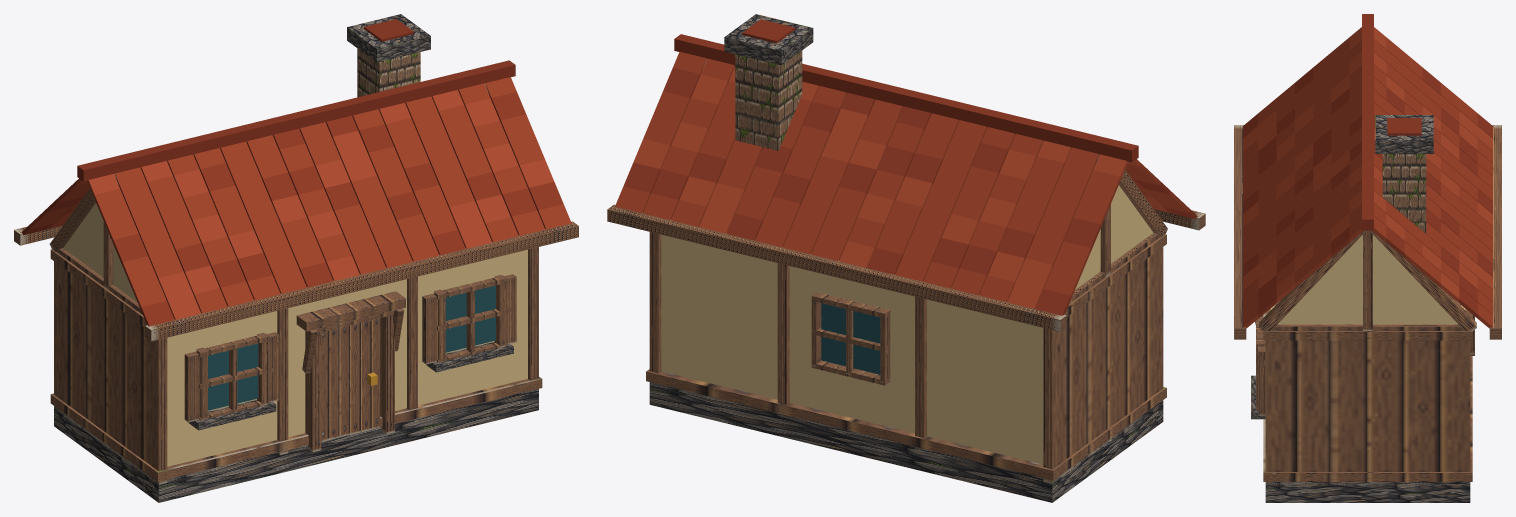
The model's file is cottage.obj.
3 views of the same model, side by side, from view 1: azimuth 30°, elevation 25°; view 2: azimuth 150°, elevation 25°; view 3: azimuth 270°, elevation 25° (orthographic). The views are drawn at different scales.
Parts seen in each view (by area): view 1: cottage_timber, cottage_roof, cottage_roof_dark, cottage_plaster, cottage_stone, cottage_roof_light, cottage_door, cottage_glass, cottage_brick; view 2: cottage_roof, cottage_plaster, cottage_timber, cottage_roof_dark, cottage_roof_light, cottage_stone, cottage_brick, cottage_glass; view 3: cottage_timber, cottage_roof, cottage_roof_dark, cottage_roof_light, cottage_plaster, cottage_stone, cottage_brick, cottage_door.
Part boxes in pixels (left/top/right/bottom): cottage_timber: left=14, top=83, right=578, bottom=484; cottage_roof: left=29, top=77, right=571, bottom=313; cottage_roof_dark: left=21, top=19, right=563, bottom=326; cottage_plaster: left=63, top=203, right=527, bottom=466; cottage_stone: left=54, top=14, right=538, bottom=502; cottage_roof_light: left=49, top=90, right=554, bottom=319; cottage_door: left=184, top=274, right=516, bottom=441; cottage_glass: left=208, top=285, right=495, bottom=410; cottage_brick: left=357, top=48, right=420, bottom=97; cottage_roof: left=615, top=51, right=1189, bottom=301; cottage_plaster: left=661, top=185, right=1153, bottom=464; cottage_timber: left=607, top=59, right=1205, bottom=483; cottage_roof_dark: left=623, top=19, right=1197, bottom=315; cottage_roof_light: left=633, top=66, right=1168, bottom=308; cottage_stone: left=649, top=14, right=1163, bottom=502; cottage_brick: left=735, top=50, right=802, bottom=150; cottage_glass: left=821, top=303, right=880, bottom=374; cottage_timber: left=1234, top=125, right=1501, bottom=485; cottage_roof: left=1243, top=37, right=1492, bottom=328; cottage_roof_dark: left=1243, top=14, right=1492, bottom=318; cottage_roof_light: left=1243, top=27, right=1492, bottom=302; cottage_plaster: left=1271, top=235, right=1465, bottom=324; cottage_stone: left=1251, top=115, right=1470, bottom=502; cottage_brick: left=1382, top=154, right=1426, bottom=233; cottage_door: left=1258, top=346, right=1265, bottom=415.
Size of the model in its own units: 200 by 154 by 110.
10 materials, 4 textured.
